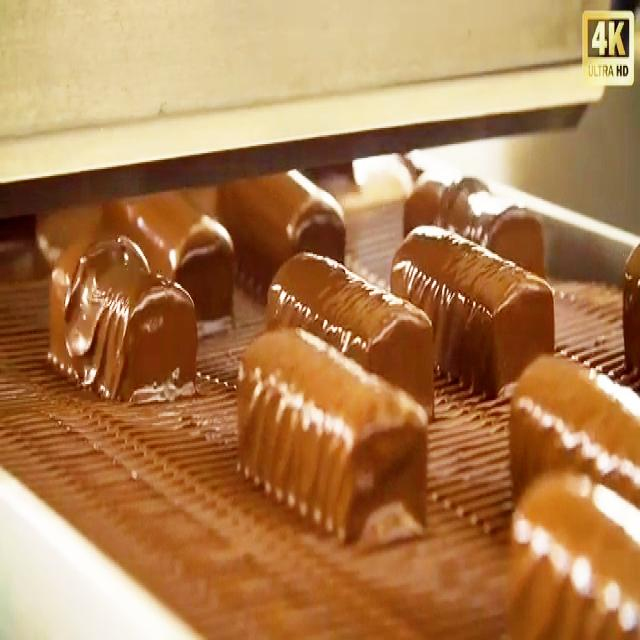Choco: (234, 322, 430, 546), (47, 202, 205, 422), (264, 247, 435, 418), (389, 219, 555, 393), (501, 456, 634, 622), (516, 338, 640, 492), (117, 179, 244, 321), (401, 162, 553, 277), (238, 159, 351, 280)
